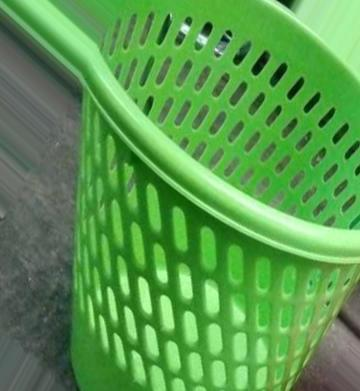Bote de Basura: (71, 7, 359, 390)
